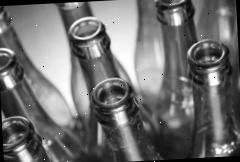glass: (66, 12, 164, 162), (186, 36, 240, 158), (1, 112, 54, 162)
